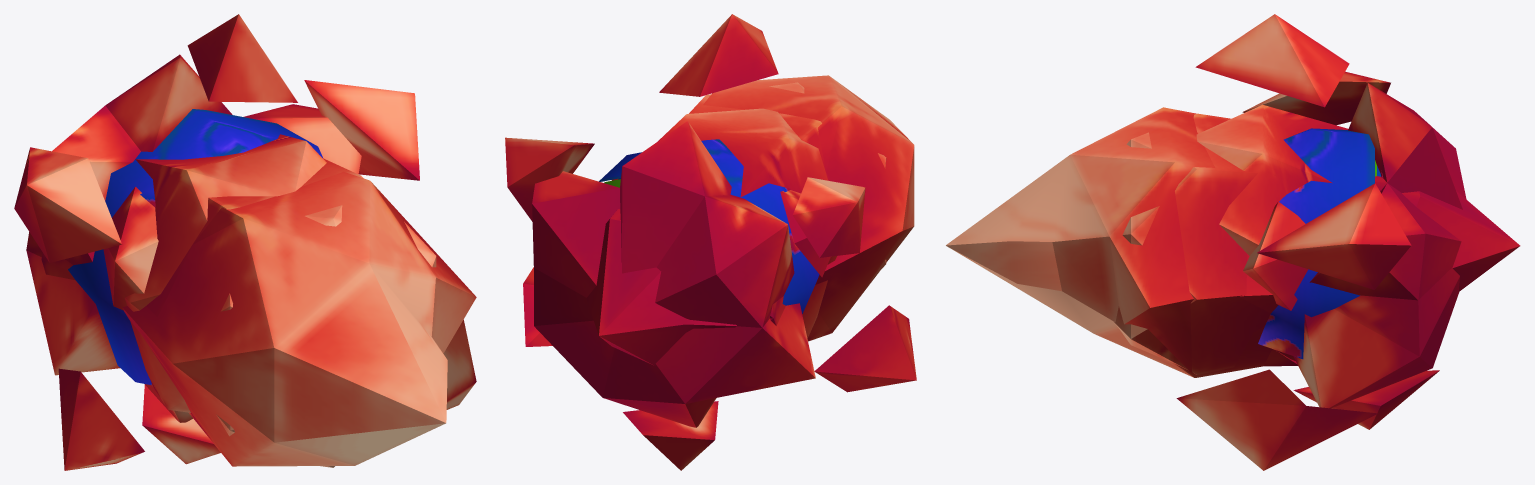
The model's file is model_crystal-r2.glb.
The picture shows the model from 3 angles, left to right: view 1: azimuth 30°, elevation 25°; view 2: azimuth 150°, elevation 25°; view 3: azimuth 270°, elevation 25°; orthographic projection. The views are drawn at different scales.
Parts seen in each view (by area): view 1: shard.modelset-MeshSets[mesh_4].Mesh[0], shard.modelset-MeshSets[mesh_2].Mesh[0], shard.modelset-MeshSets[mesh_3].Mesh[0]; view 2: shard.modelset-MeshSets[mesh_3].Mesh[0], shard.modelset-MeshSets[mesh_4].Mesh[0], shard.modelset-MeshSets[mesh_2].Mesh[0]; view 3: shard.modelset-MeshSets[mesh_4].Mesh[0], shard.modelset-MeshSets[mesh_3].Mesh[0], shard.modelset-MeshSets[mesh_2].Mesh[0].
Boxes of the visible parts, bbox=[...] form: shard.modelset-MeshSets[mesh_4].Mesh[0]: bbox=[14, 14, 476, 470]; shard.modelset-MeshSets[mesh_2].Mesh[0]: bbox=[41, 109, 326, 412]; shard.modelset-MeshSets[mesh_3].Mesh[0]: bbox=[26, 54, 436, 467]; shard.modelset-MeshSets[mesh_3].Mesh[0]: bbox=[532, 82, 886, 427]; shard.modelset-MeshSets[mesh_4].Mesh[0]: bbox=[505, 14, 916, 470]; shard.modelset-MeshSets[mesh_2].Mesh[0]: bbox=[599, 108, 836, 338]; shard.modelset-MeshSets[mesh_4].Mesh[0]: bbox=[946, 14, 1520, 470]; shard.modelset-MeshSets[mesh_3].Mesh[0]: bbox=[1114, 83, 1466, 408]; shard.modelset-MeshSets[mesh_2].Mesh[0]: bbox=[1196, 104, 1383, 366].
Size of the model in its own units: 0.5902 by 0.6614 by 0.8315.
Materials: 1 (1 with a texture image).
